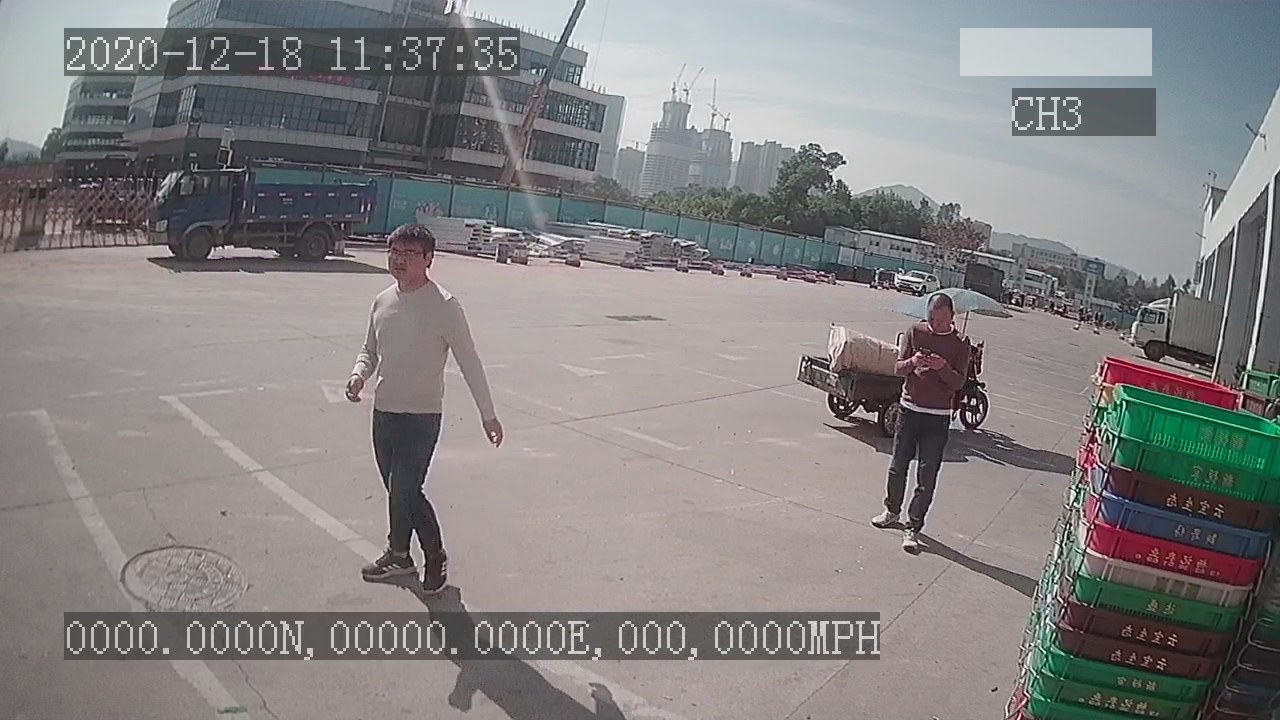person: (341, 225, 503, 584)
